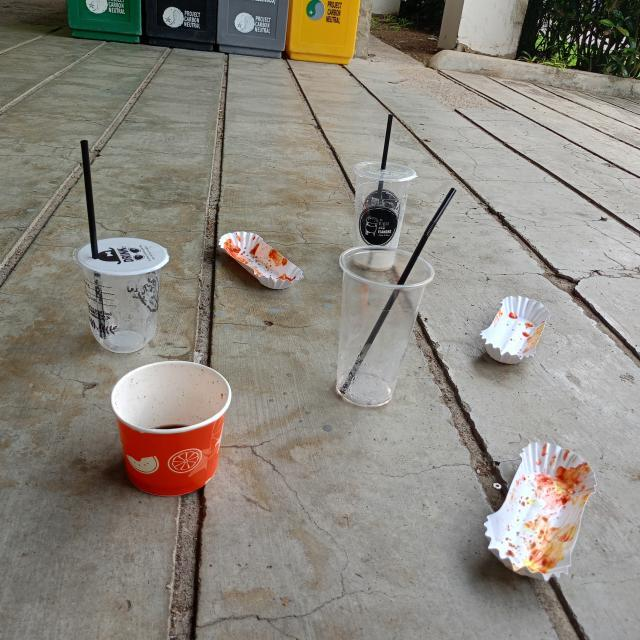recyclable waste: (106, 355, 246, 501), (479, 437, 604, 587), (330, 243, 440, 412), (70, 234, 176, 357), (336, 157, 422, 275), (209, 226, 312, 294), (473, 286, 553, 372)
